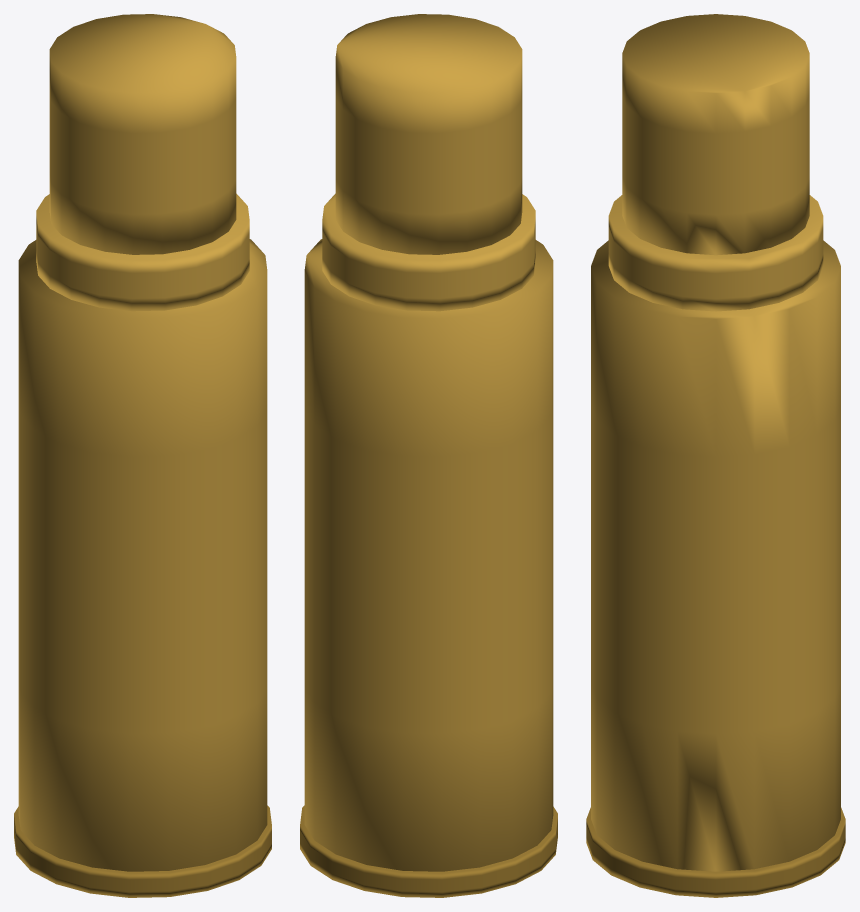
File: capsula_fuzil.glb
3 renders of one model, left to right at view 1: azimuth 30°, elevation 25°; view 2: azimuth 150°, elevation 25°; view 3: azimuth 270°, elevation 25°, orthographic.
Visible parts, largest first — view 1: obj_4, obj_6, obj_5, obj_3; view 2: obj_4, obj_6, obj_5, obj_3; view 3: obj_4, obj_6, obj_5, obj_3.
Part boxes in pixels (x1,y1,x2,y2): obj_4: (18, 239, 267, 871); obj_6: (49, 14, 236, 254); obj_5: (36, 193, 249, 311); obj_3: (14, 805, 271, 897); obj_4: (304, 239, 553, 871); obj_6: (335, 14, 522, 254); obj_5: (322, 193, 535, 311); obj_3: (300, 805, 557, 897); obj_4: (591, 240, 840, 871); obj_6: (622, 14, 809, 255); obj_5: (608, 195, 823, 311); obj_3: (586, 807, 845, 897).
Bounding box in the file's own units: 0.0116 × 0.039 × 0.0116.
